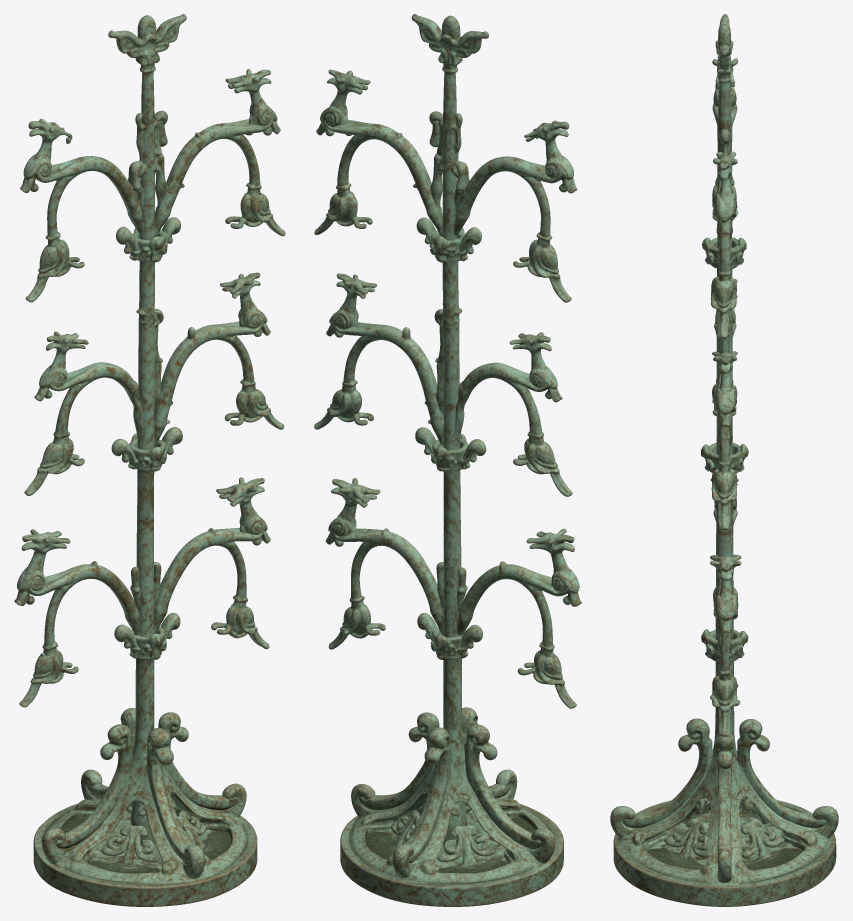
File: bronze-tree.glb
3 renders of one model, left to right at view 1: azimuth 30°, elevation 25°; view 2: azimuth 150°, elevation 25°; view 3: azimuth 270°, elevation 25°, orthographic.
Bounding box in the file's own units: 0.6303 × 1.9 × 0.471.
1 material, 1 textured.
